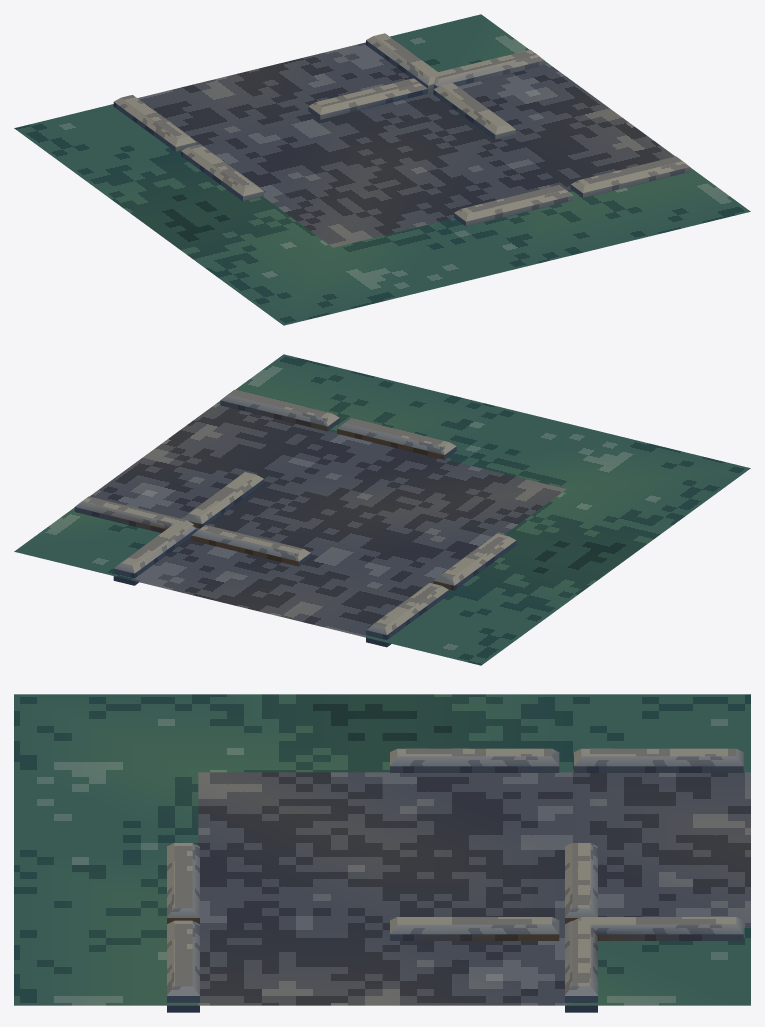
File: mter.ground__path_corner.glb
3 views of the same model, one above another, from view 1: azimuth 30°, elevation 25°; view 2: azimuth 150°, elevation 25°; view 3: azimuth 270°, elevation 25° (orthographic). The views are drawn at different scales.
Visible parts, largest first — view 1: kit_shell_ground, kit_kerbs; view 2: kit_shell_ground, kit_kerbs; view 3: kit_shell_ground, kit_kerbs.
Boxes of the visible parts, box(x1,y1,x2,y2) form: kit_shell_ground: box(14, 14, 750, 325); kit_kerbs: box(113, 33, 690, 226); kit_shell_ground: box(14, 354, 750, 665); kit_kerbs: box(74, 389, 516, 647); kit_shell_ground: box(14, 694, 750, 1005); kit_kerbs: box(167, 748, 743, 1012).
Size of the model in its own units: 4 by 0.14 by 4.
Materials: 3 (3 with a texture image).
